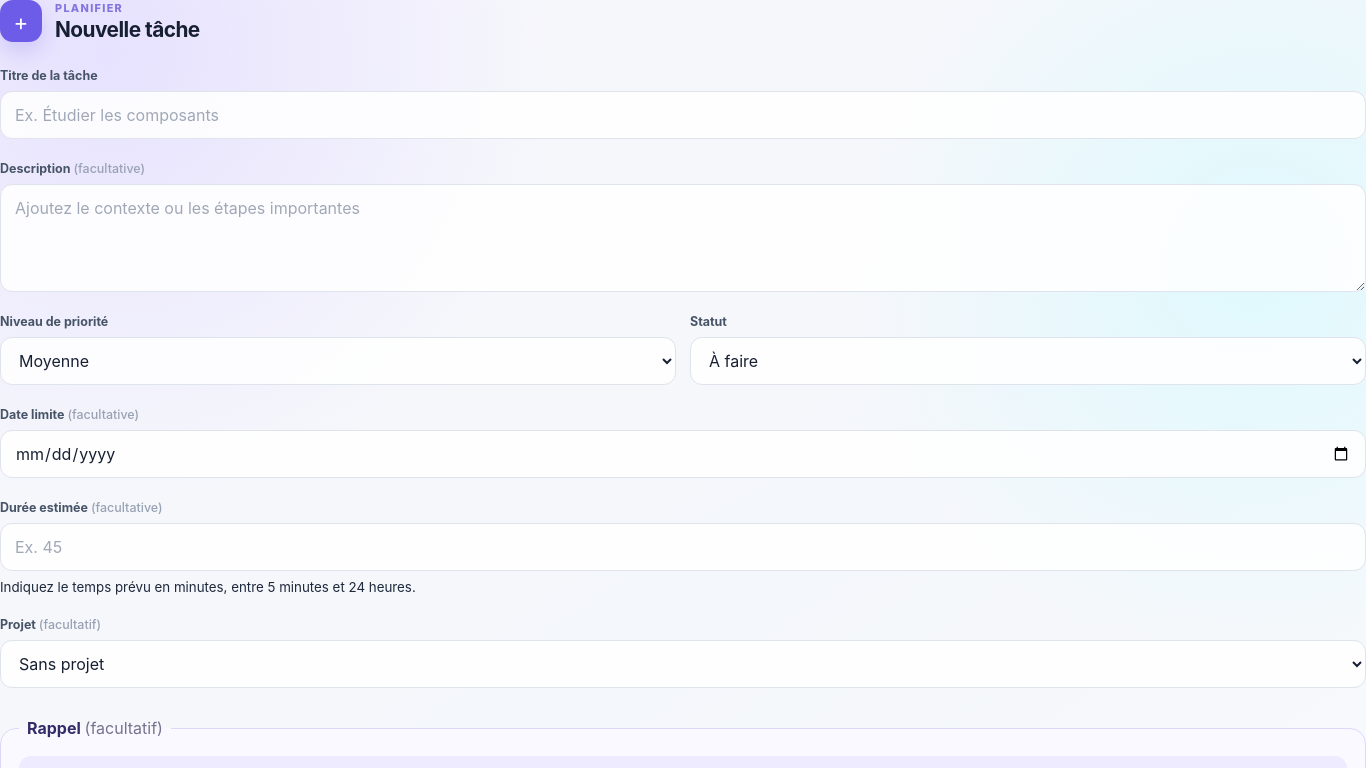
Test: TaskFormComponent › affiche une erreur après interaction avec un titre invalide
The width and height of the screenshot is (1366, 768).
In the field with id "task": (683, 115) left=0, top=91, right=1365, bottom=139, type "ab"
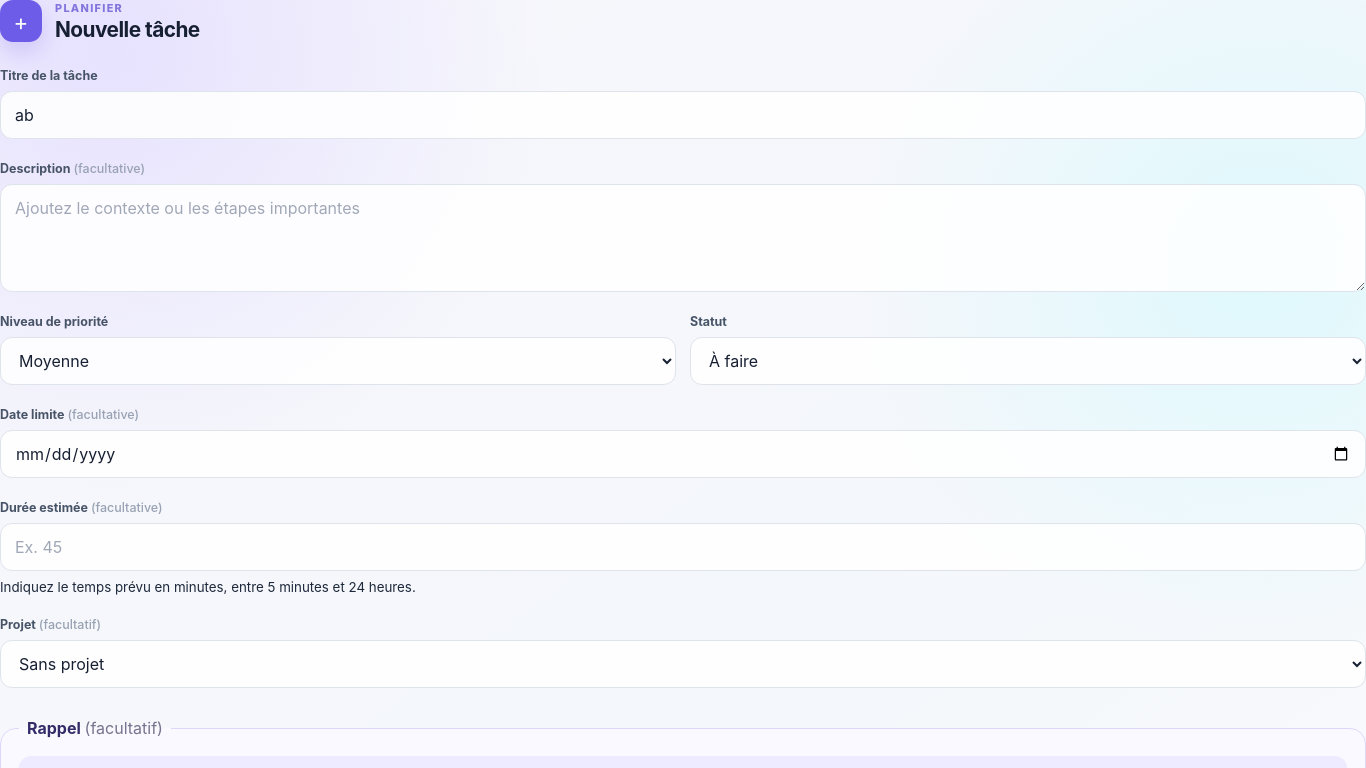
Leave the field with id "task", box left=0, top=91, right=1365, bottom=139
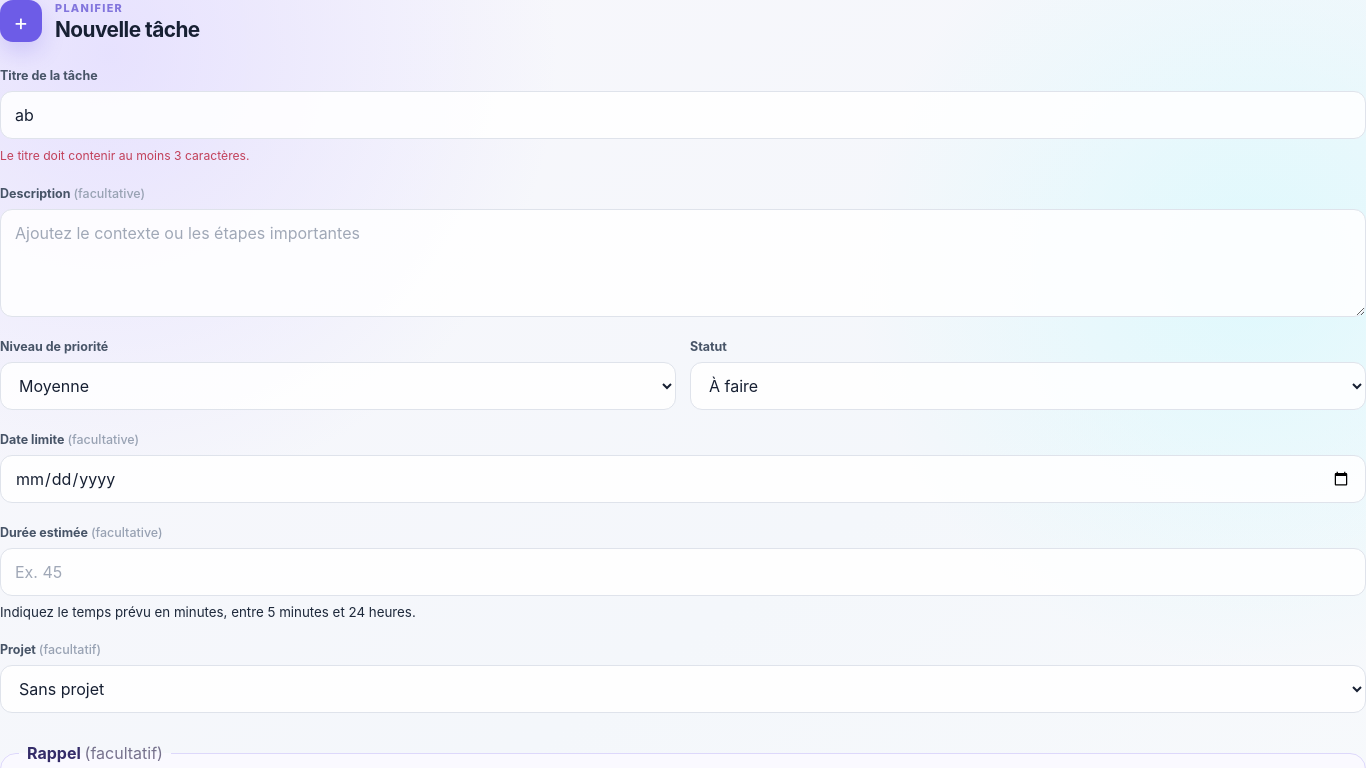
Check: the text "au moins 3 caractères" is shown, box left=0, top=148, right=250, bottom=163
